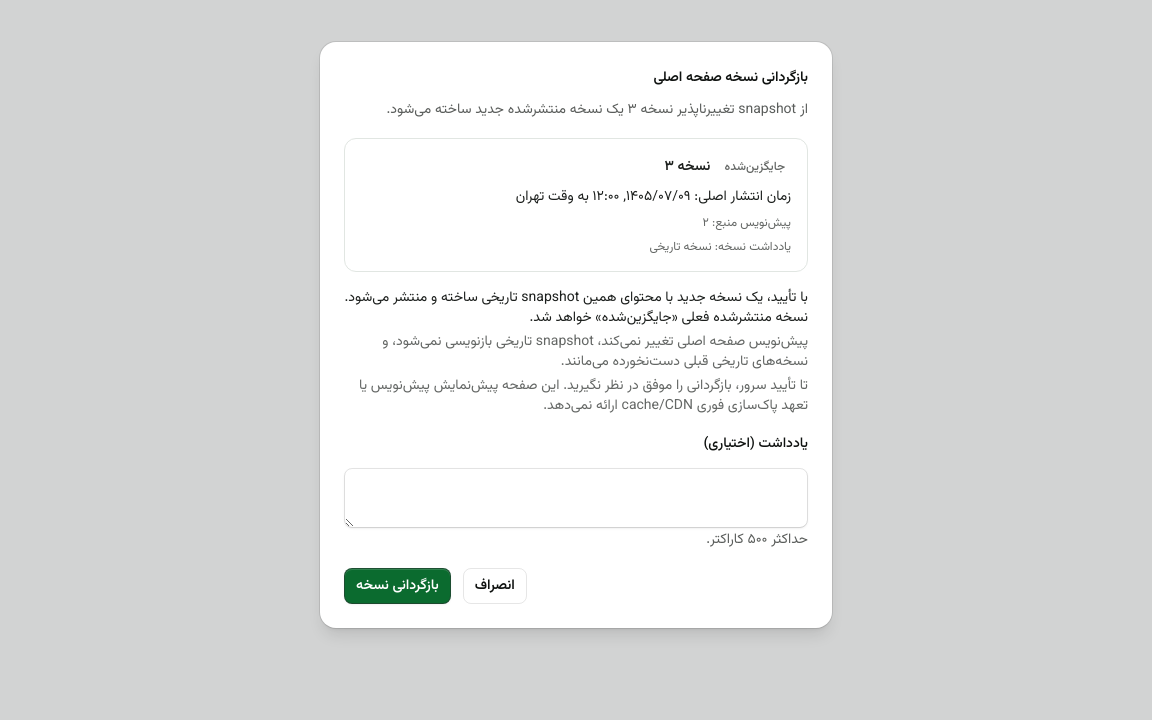
Test case: HomepagePublicationRollbackDialog (SS-281) › shows 409 dependency errors, refreshes, and does not claim success
Step 1. Click the button "بازگردانی نسخه" → {"x": 397, "y": 586}, box [344, 568, 451, 604]
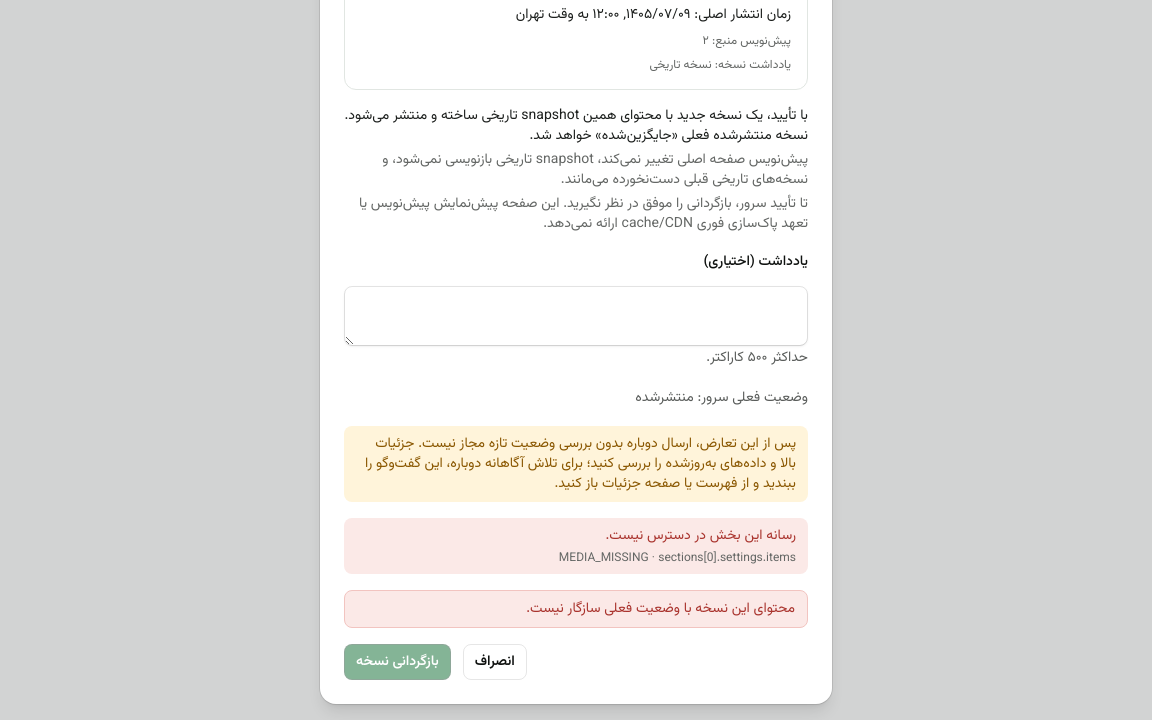
Expected: the text "رسانه این بخش در دسترس نیست." is shown, [606, 525, 796, 547]
Expected: the text "محتوای این نسخه با وضعیت فعلی سازگار نیست." is shown, [344, 590, 808, 628]
Expected: the text "وضعیت فعلی سرور: منتشرشده" is shown, [635, 387, 808, 409]
